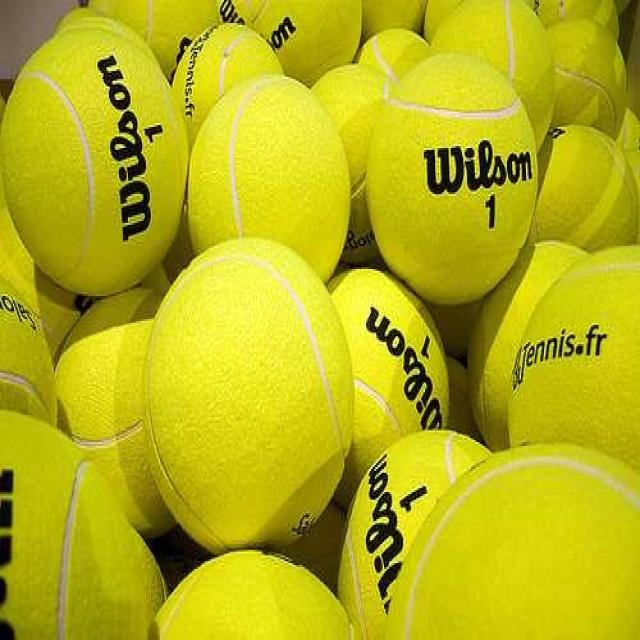Tennis_Ball: (148, 238, 352, 547), (379, 456, 640, 638), (5, 29, 187, 280), (0, 403, 170, 640), (341, 433, 508, 640), (187, 77, 341, 279), (52, 281, 188, 507), (376, 71, 525, 263), (514, 244, 640, 446), (345, 262, 447, 486), (140, 548, 371, 640), (432, 0, 552, 145), (311, 62, 403, 248), (526, 121, 640, 244), (174, 24, 286, 139), (538, 27, 627, 145), (241, 0, 364, 75), (0, 296, 57, 428), (92, 0, 220, 56)
